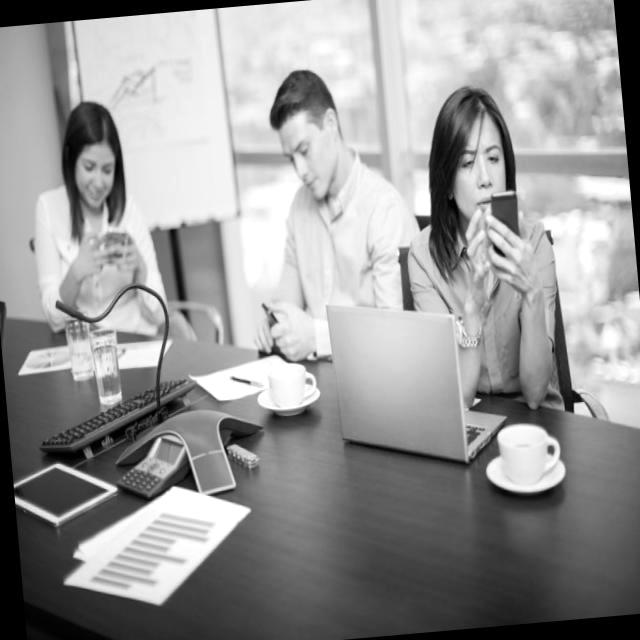phone: (488, 188, 522, 258), (104, 226, 129, 258), (262, 300, 280, 326)
